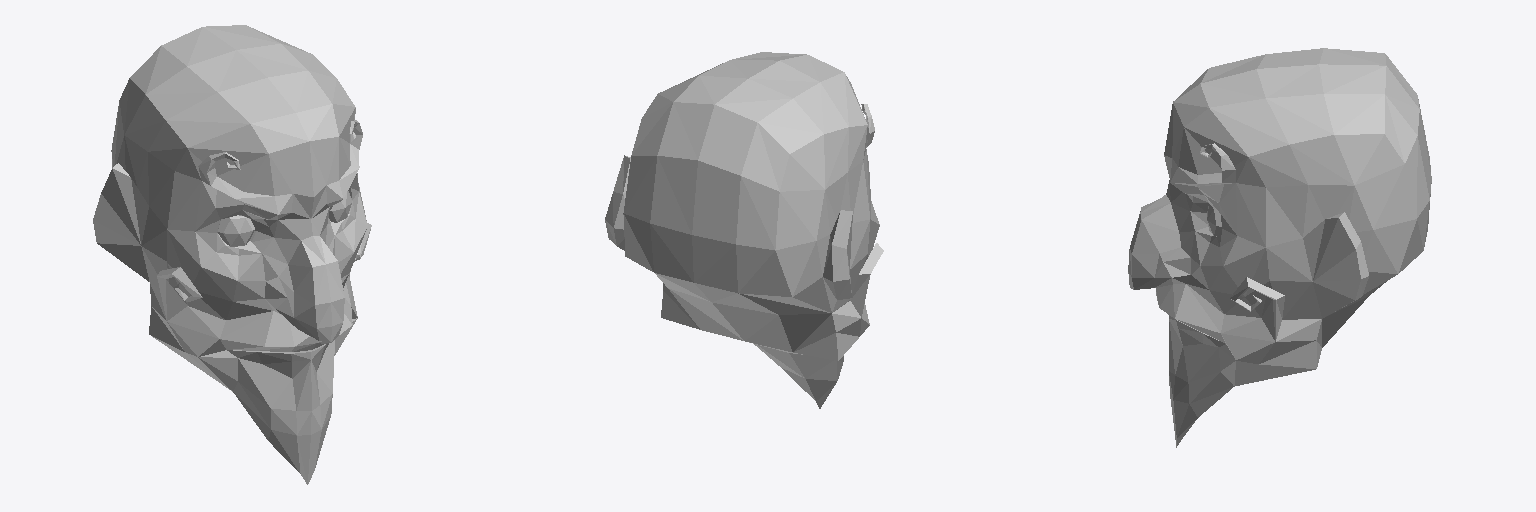
The model's file is fire head.obj.
The picture shows the model from 3 angles: view 1: azimuth 30°, elevation 25°; view 2: azimuth 150°, elevation 25°; view 3: azimuth 270°, elevation 25°; orthographic projection.
Parts seen in each view (by area): view 1: head; view 2: head; view 3: head.
Boxes of the visible parts, x1,y1,x2,y2 form: head: [93, 25, 371, 484]; head: [605, 52, 883, 408]; head: [1128, 48, 1431, 447].
Size of the model in its own units: 0.3934 by 0.5881 by 0.4222.